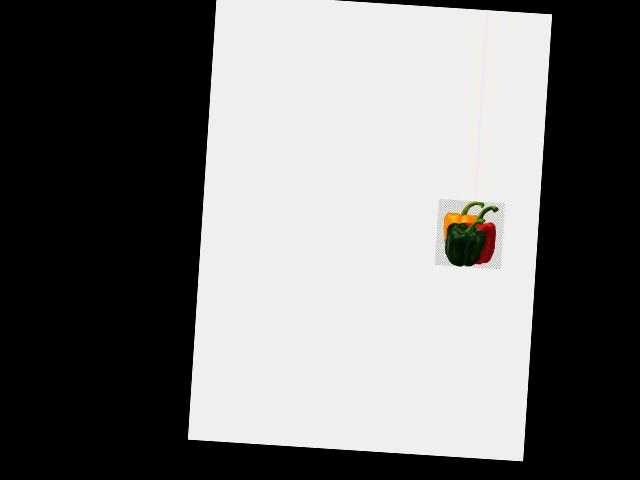bell_pepper: (463, 202, 505, 267)
